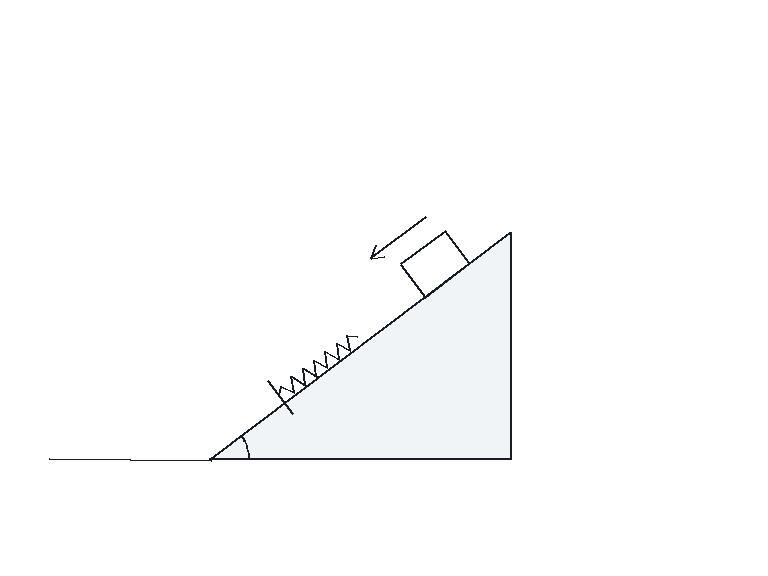block: (398, 228, 471, 298)
ramp: (207, 230, 512, 461)
spring: (277, 333, 359, 397)
